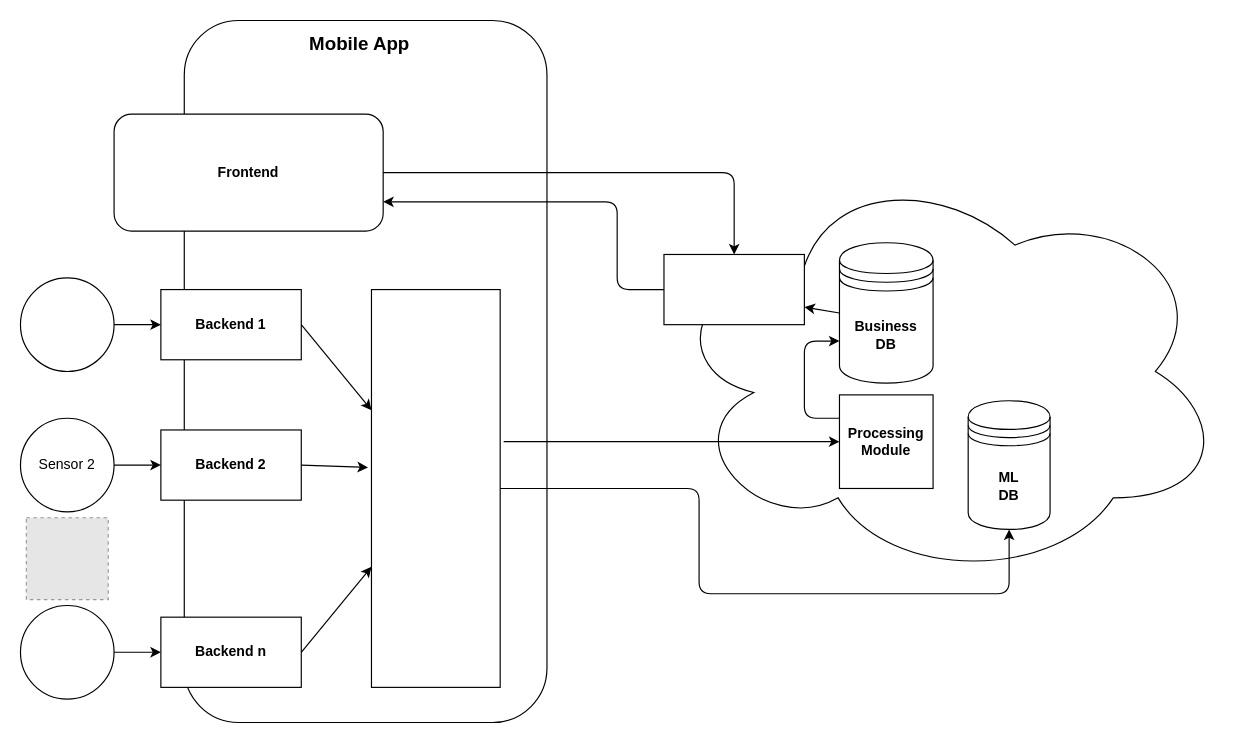
The diagram is 1246 pixels wide and 743 high, and some of its shapes have lost their labels. Grey dashed boxes stand in for pictures. Here are the shapes that lost their labels. From the top down, the centre of each, then its label:
At [733,289]: "Interface (CRUD etc.)".
At [66,324]: "Sensor 1".
At [435,487]: "Discretization Module".
At [66,651]: "Sensor n".
